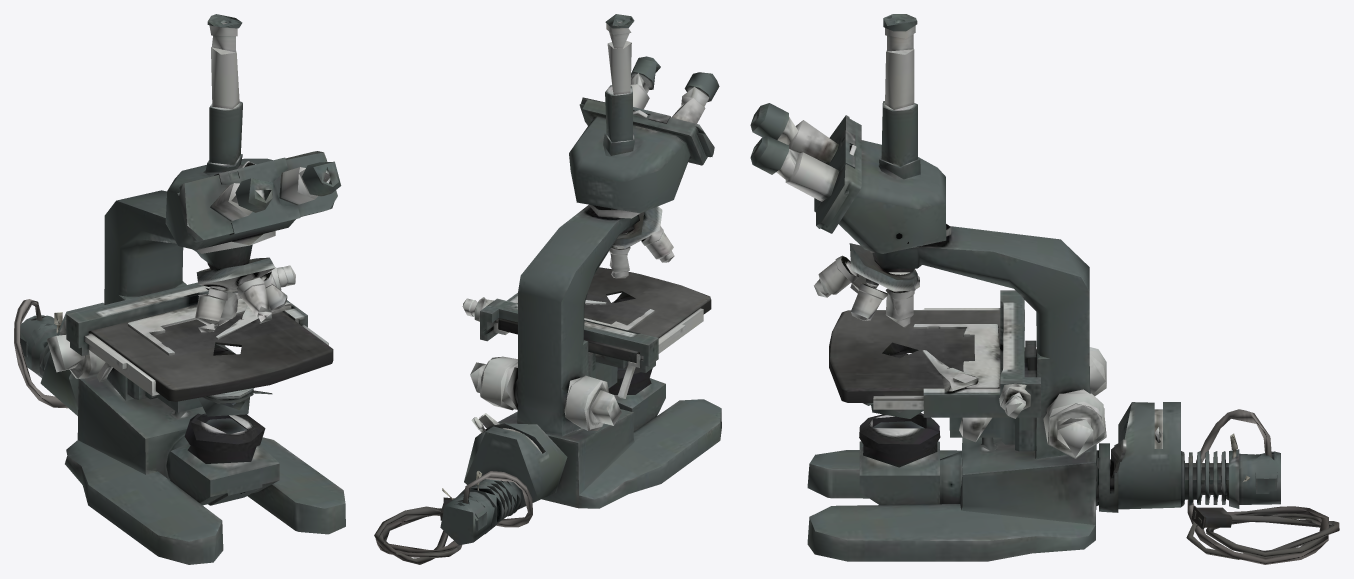
The model's file is microscope.glb.
The picture shows the model from 3 angles, left to right: view 1: azimuth 30°, elevation 25°; view 2: azimuth 150°, elevation 25°; view 3: azimuth 270°, elevation 25°; orthographic projection. The views are drawn at different scales.
Visible parts, largest first — view 1: microscope2; view 2: microscope2; view 3: microscope2.
Boxes of the visible parts, x1=… form: microscope2: x1=14, y1=14, x2=345, y2=564; microscope2: x1=374, y1=14, x2=721, y2=564; microscope2: x1=750, y1=14, x2=1339, y2=564.
Bounding box in the file's own units: 0.2145 × 0.4613 × 0.4958.
1 material, 1 textured.
